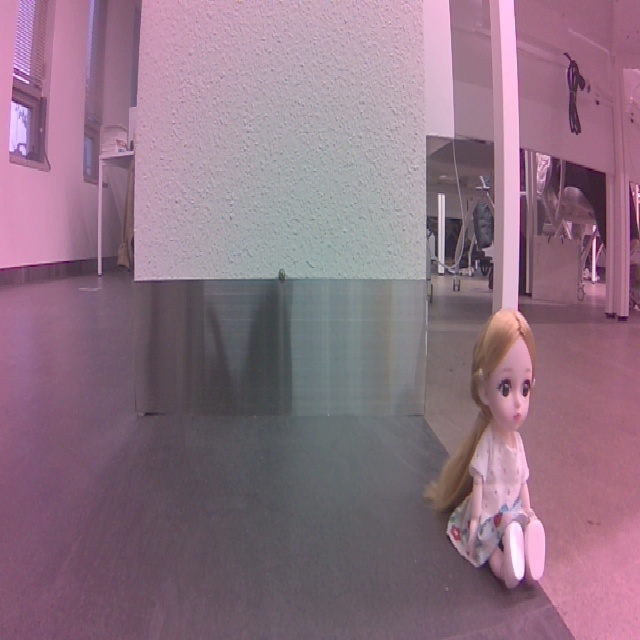장애물: (425, 305, 563, 599)
